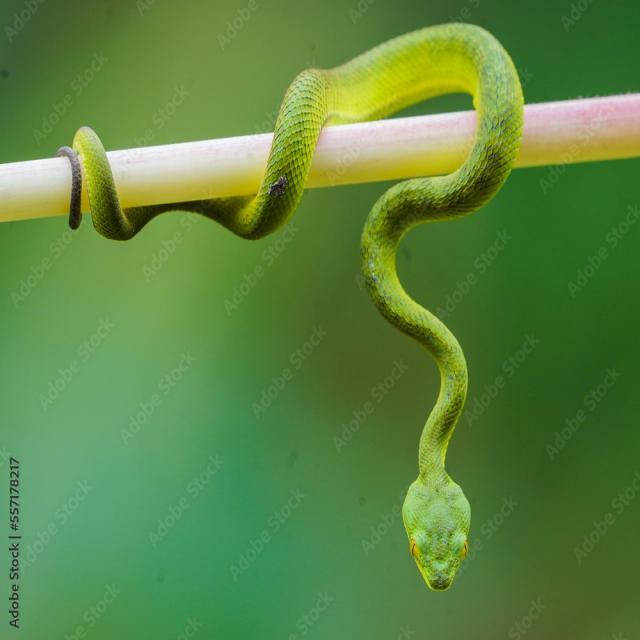Snake: (51, 0, 556, 621)
